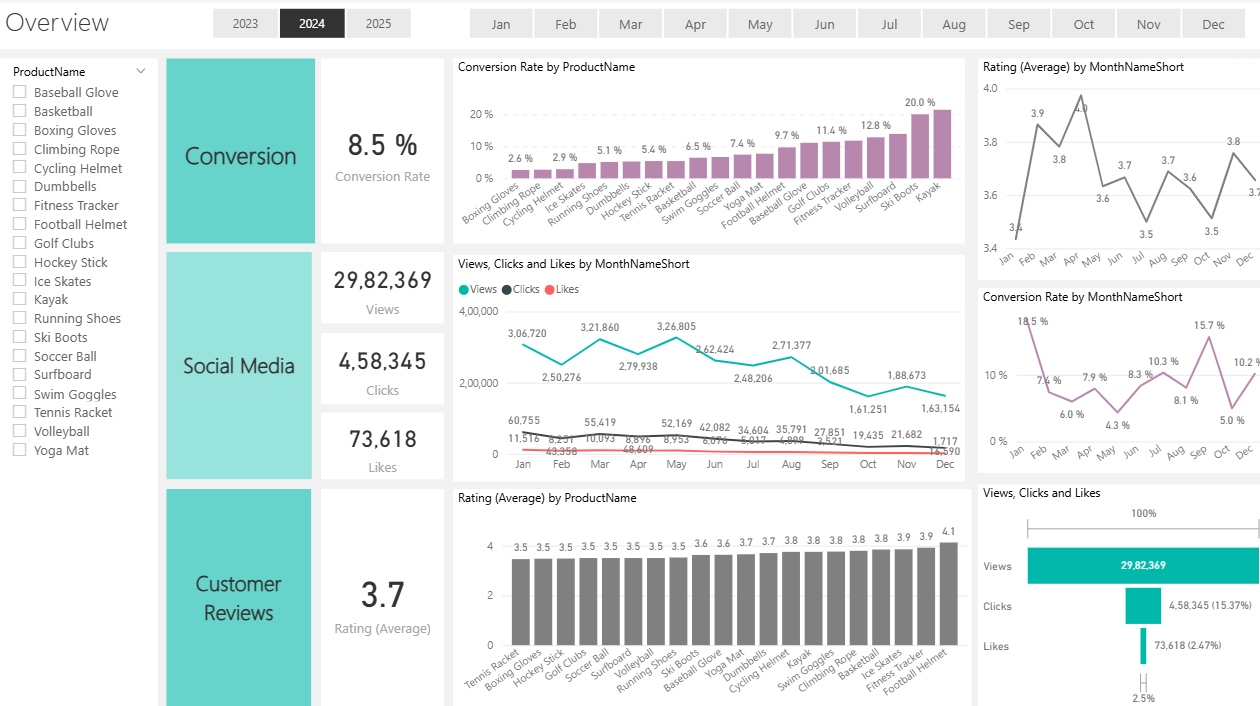

Layout of this report page (visuals, bound fields, positions):
{"tool":"powerbi","page":{"name":"Overview","canvas":[1280,720],"ordinal":0},"visuals":[{"type":"textbox","box":[0,0,1280,52.6],"z":0},{"type":"slicer","fields":{"Values":["dim_products.ProductName"]},"box":[0,61.6,159.5,658.5],"z":1000},{"type":"card","fields":{"Values":["_Calculations.Conversion Rate"]},"box":[324.1,61.9,123.9,186.8],"z":2000},{"type":"card","fields":{"Values":["_Calculations.Rating (Average)"]},"box":[324.1,496.5,123.9,224],"z":3000},{"type":"lineChart","fields":{"Y":["_Calculations.Conversion Rate"],"Category":["Calendar.MonthNameShort"]},"box":[986.7,293.3,293.3,186.7],"z":4000},{"type":"columnChart","fields":{"Category":["dim_products.ProductName"],"Y":["_Calculations.Conversion Rate"]},"box":[456.7,61.7,516.7,186.7],"z":5000},{"type":"slicer","fields":{"Values":["Calendar.Year"]},"box":[189.4,4.6,249.5,43.7],"z":6000},{"type":"slicer","fields":{"Values":["Calendar.MonthNameShort"]},"box":[448,4.6,832.3,43.7],"z":7000},{"type":"lineChart","fields":{"Y":["_Calculations.Views","_Calculations.Clicks","_Calculations.Likes"],"Category":["Calendar.MonthNameShort"]},"box":[456.7,260,516.7,228.3],"z":8000},{"type":"lineChart","fields":{"Category":["Calendar.MonthNameShort"],"Y":["_Calculations.Rating (Average)"]},"box":[986.7,61.7,293.3,223.3],"z":9000},{"type":"columnChart","fields":{"Category":["dim_products.ProductName"],"Y":["_Calculations.Rating (Average)"]},"box":[456.7,496.7,523.3,223.3],"z":10000},{"type":"funnel","fields":{"Y":["_Calculations.Views","_Calculations.Clicks","_Calculations.Likes"]},"box":[986.7,491.7,293.3,228.3],"z":11000},{"type":"card","fields":{"Values":["_Calculations.Views"]},"box":[324.2,257.7,123.8,71.9],"z":12000},{"type":"textbox","box":[168.5,61.9,150.3,186.7],"z":13000},{"type":"textbox","box":[168.5,257.7,146.6,229.5],"z":14000},{"type":"textbox","box":[168.5,496.3,145.7,224],"z":15000},{"type":"card","fields":{"Values":["_Calculations.Clicks"]},"box":[324.2,338.8,123.8,71.9],"z":16000},{"type":"card","fields":{"Values":["_Calculations.Likes"]},"box":[324.2,419.8,123.8,67.4],"z":17000}]}

Visuals, with their boxes in screenshot pixels (x1, y1, x2, y2), scaled from the page's 1280x720 canvas onto the 1260x706 screenshot:
textbox: 0:0:1259:52
slicer - dim_products.ProductName: 0:60:157:705
card - _Calculations.Conversion Rate: 319:61:441:244
card - _Calculations.Rating (Average): 319:487:441:705
lineChart - _Calculations.Conversion Rate x Calendar.MonthNameShort: 971:288:1259:471
columnChart - dim_products.ProductName x _Calculations.Conversion Rate: 450:61:958:244
slicer - Calendar.Year: 186:5:432:47
slicer - Calendar.MonthNameShort: 441:5:1259:47
lineChart - _Calculations.Views x _Calculations.Clicks: 450:255:958:479
lineChart - Calendar.MonthNameShort x _Calculations.Rating (Average): 971:61:1259:279
columnChart - dim_products.ProductName x _Calculations.Rating (Average): 450:487:965:705
funnel - _Calculations.Views x _Calculations.Clicks: 971:482:1259:705
card - _Calculations.Views: 319:253:441:323
textbox: 166:61:314:244
textbox: 166:253:310:478
textbox: 166:487:309:705
card - _Calculations.Clicks: 319:332:441:403
card - _Calculations.Likes: 319:412:441:478
